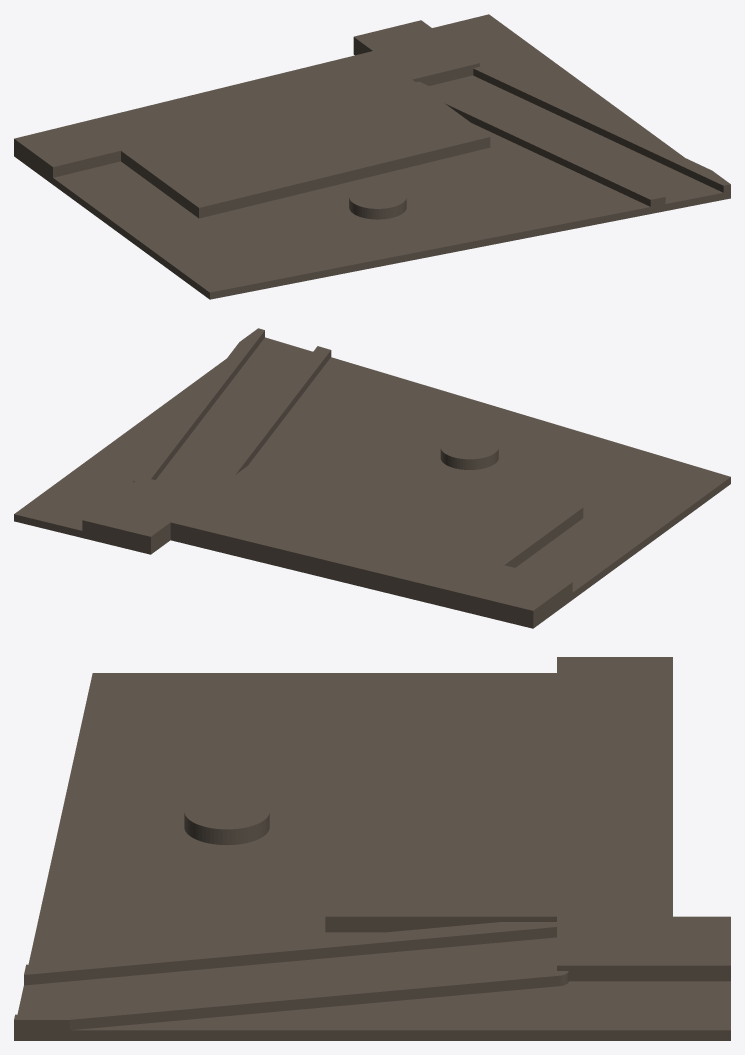
The model's file is suelo.dae.
3 views of the same model, one above another, from view 1: azimuth 30°, elevation 25°; view 2: azimuth 150°, elevation 25°; view 3: azimuth 270°, elevation 25° (orthographic). The views are drawn at different scales.
Visible parts, largest first — view 1: node0; view 2: node0; view 3: node0.
Part boxes in pixels (x1=…): node0: x1=14, y1=14, x2=730, y2=299; node0: x1=14, y1=328, x2=730, y2=628; node0: x1=14, y1=657, x2=730, y2=1040.
Bounding box in the file's own units: 7.3 × 6.19 × 0.25.
